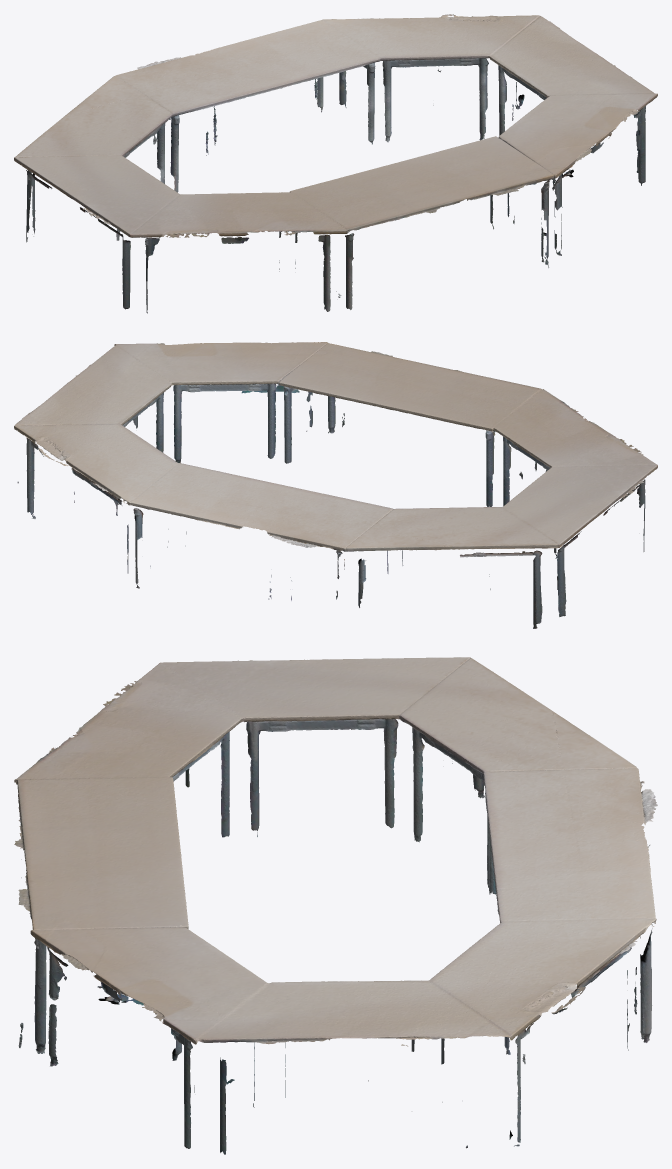
3 views of the same model, one above another, from view 1: azimuth 30°, elevation 25°; view 2: azimuth 150°, elevation 25°; view 3: azimuth 270°, elevation 25° (orthographic). The views are drawn at different scales.
Parts seen in each view (by area): view 1: world; view 2: world; view 3: world.
Boxes of the visible parts, bbox=[...] form: world: bbox=[14, 14, 657, 313]; world: bbox=[14, 342, 657, 628]; world: bbox=[14, 657, 657, 1154].
Bounding box in the file's own units: 1 × 0.156 × 0.7035.
